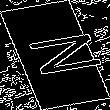N_E: (8, 29, 102, 81)
